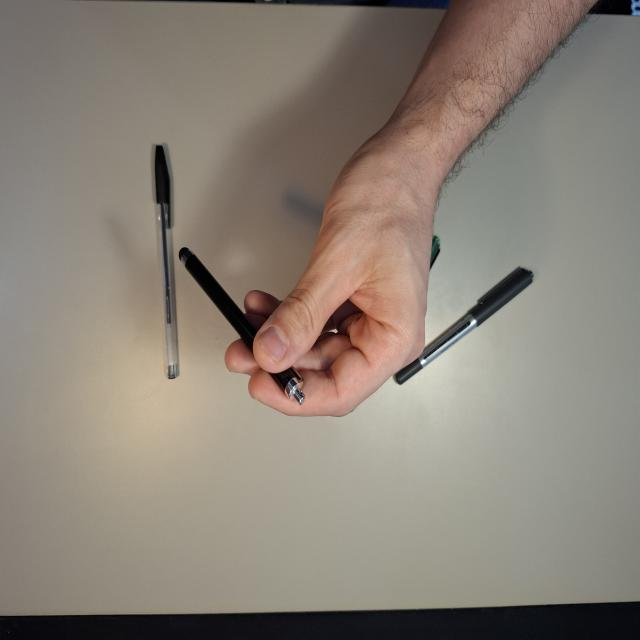glove_off: (223, 100, 449, 421)
